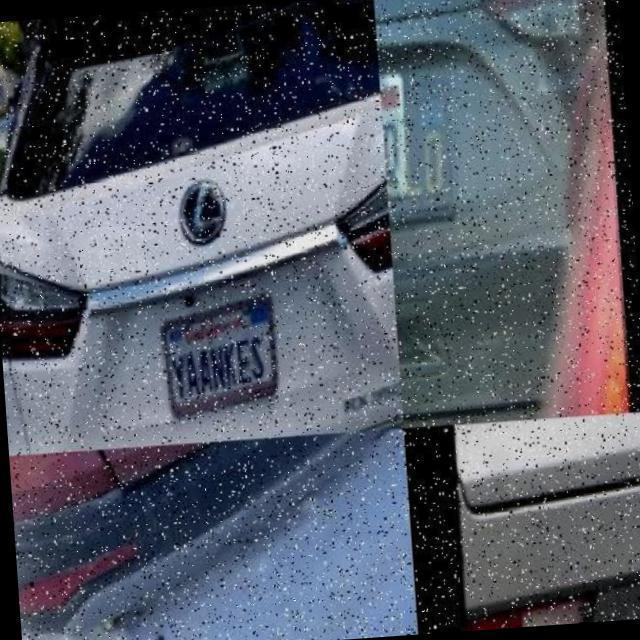License Plate: (160, 304, 296, 412), (378, 64, 466, 208)
